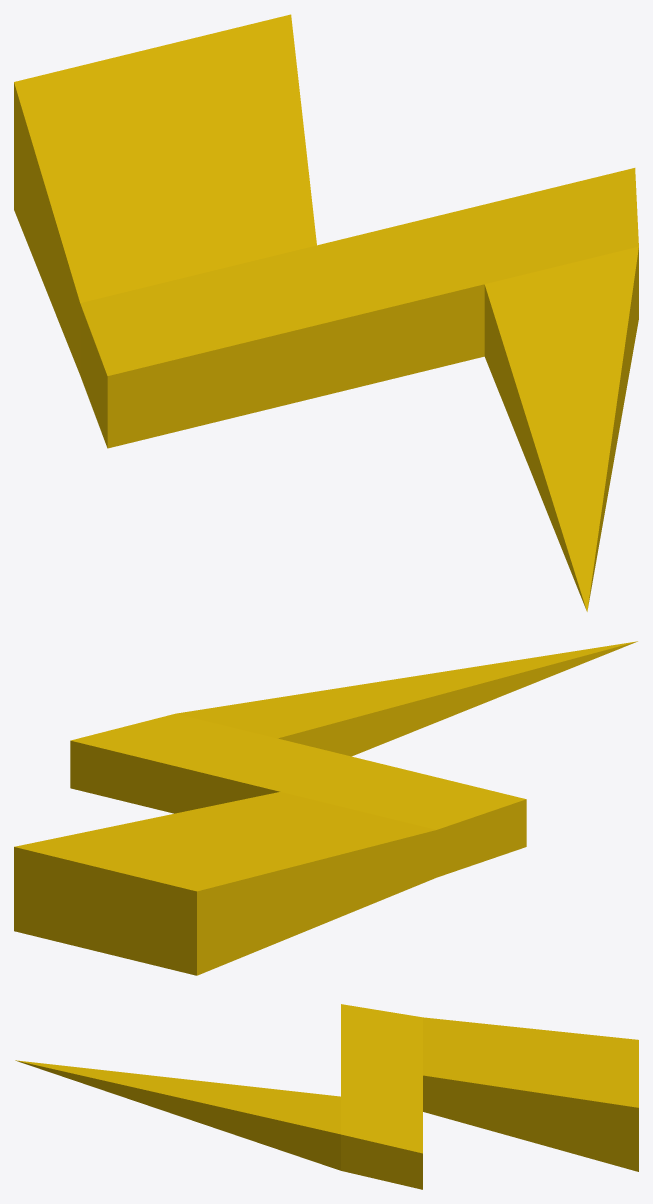
The model's file is NikolaTeslaAC.fbx.
3 views of the same model, one above another, from view 1: azimuth 30°, elevation 25°; view 2: azimuth 150°, elevation 25°; view 3: azimuth 270°, elevation 25° (orthographic). The views are drawn at different scales.
Parts seen in each view (by area): view 1: Cube.023; view 2: Cube.023; view 3: Cube.023.
Part boxes in pixels (x1,y1,x2,y2): Cube.023: (14, 14, 638, 611); Cube.023: (14, 641, 637, 975); Cube.023: (15, 1004, 638, 1189).
Size of the model in its own units: 260 by 52.17 by 460.
